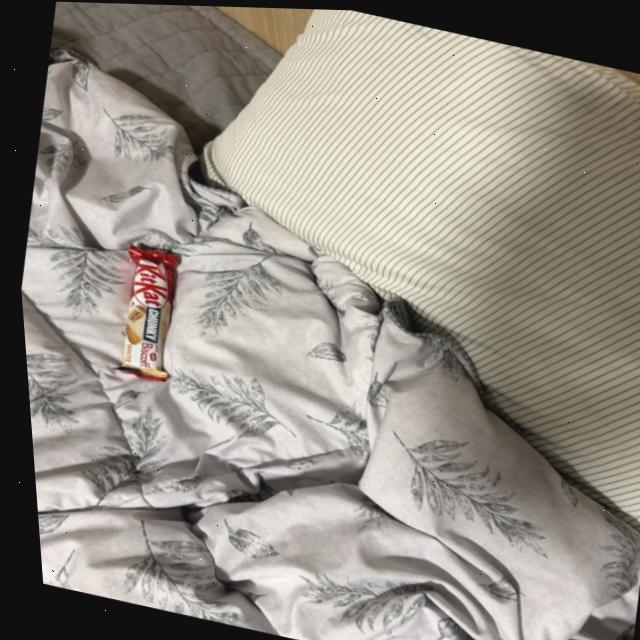chocolate: (94, 234, 195, 390)
